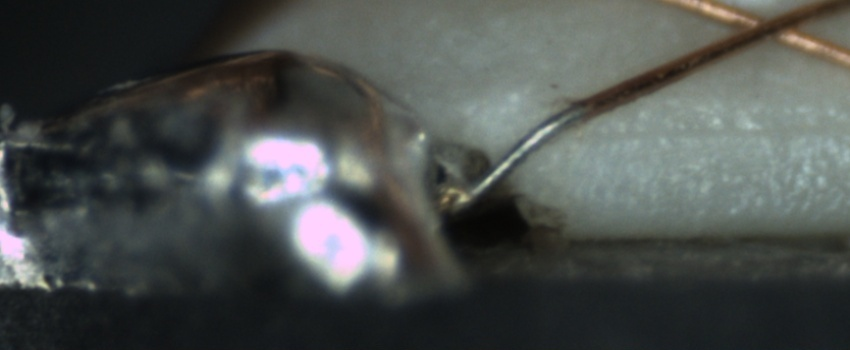CL: (715, 2, 828, 48)
DL: (565, 101, 849, 165)
TS: (462, 101, 589, 206)
TTCW: (470, 81, 628, 199)
